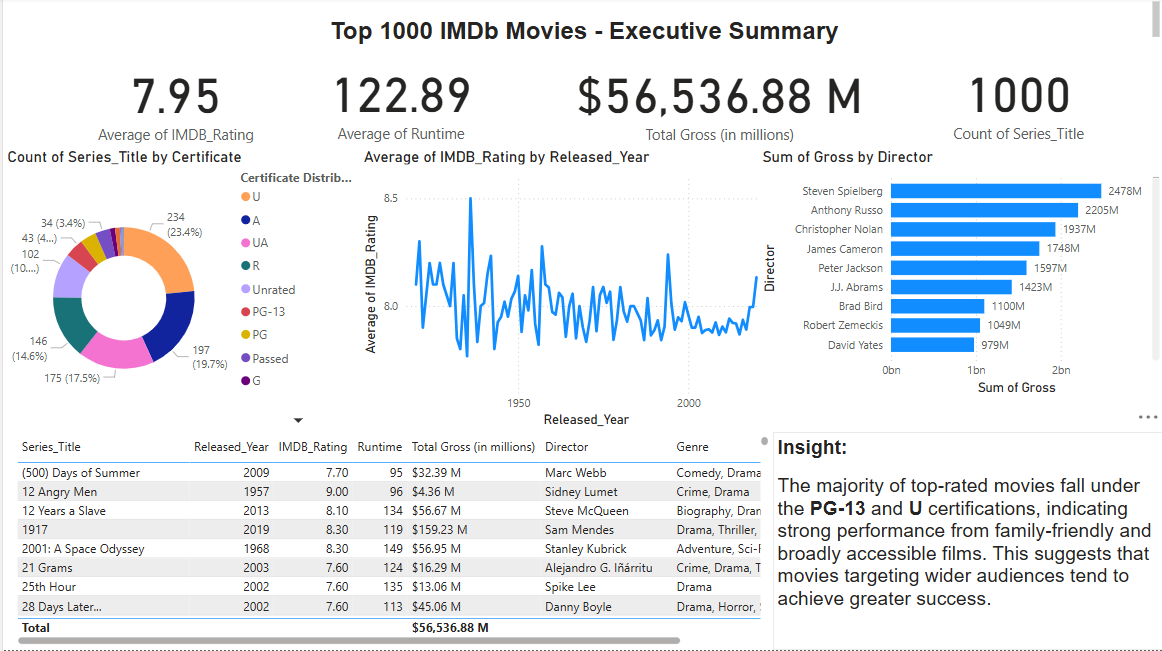

The dashboard page shown, as its layout file describes it:
{"tool":"powerbi","page":{"name":"Page 1","canvas":[1280,720],"ordinal":0},"visuals":[{"type":"textbox","box":[9.6,0,1270.6,60.6],"z":0},{"type":"lineChart","fields":{"Category":["imdb_top_1000_cleaned.Released_Year"],"Y":["Avg(imdb_top_1000_cleaned.IMDB_Rating)"]},"box":[392.8,165.4,456.2,314.2],"z":1},{"type":"clusteredBarChart","fields":{"Category":["imdb_top_1000_cleaned.Director"],"Y":["Sum(imdb_top_1000_cleaned.Gross)"]},"box":[832.4,165.4,447.9,278.4],"z":2},{"type":"tableEx","fields":{"Values":["imdb_top_1000_cleaned.Series_Title","imdb_top_1000_cleaned.Released_Year","imdb_top_1000_cleaned.IMDB_Rating","imdb_top_1000_cleaned.Runtime","imdb_top_1000_cleaned.Total Gross (in millions)","imdb_top_1000_cleaned.Director","imdb_top_1000_cleaned.Genre"]},"box":[9.6,479.6,839.3,239.8],"z":3},{"type":"card","fields":{"Values":["Avg(imdb_top_1000_cleaned.IMDB_Rating)"]},"box":[9.6,60.6,362.4,104.7],"z":4},{"type":"card","fields":{"Values":["Avg(imdb_top_1000_cleaned.Runtime)"]},"box":[282.5,57.9,312.8,107.5],"z":5},{"type":"card","fields":{"Values":["imdb_top_1000_cleaned.Total Gross (in millions)"]},"box":[621.5,60.6,337.6,104.7],"z":6},{"type":"card","fields":{"Values":["CountNonNull(imdb_top_1000_cleaned.Series_Title)"]},"box":[959.2,57.9,321.1,107.5],"z":7},{"type":"donutChart","fields":{"Category":["imdb_top_1000_cleaned.Certificate"],"Y":["CountNonNull(imdb_top_1000_cleaned.Series_Title)"]},"box":[0,165.4,392.8,314.2],"z":8},{"type":"textbox","box":[848.9,479.6,431.4,239.8],"z":9}]}

Visuals, with their boxes in screenshot pixels (x1, y1, x2, y2), scaled from the page's 1280x720 canvas onto the 1162x651 screenshot:
textbox: bbox=[9, 0, 1161, 55]
lineChart - imdb_top_1000_cleaned.Released_Year x Avg(imdb_top_1000_cleaned.IMDB_Rating): bbox=[357, 150, 771, 434]
clusteredBarChart - imdb_top_1000_cleaned.Director x Sum(imdb_top_1000_cleaned.Gross): bbox=[756, 150, 1161, 401]
tableEx - imdb_top_1000_cleaned.Series_Title x imdb_top_1000_cleaned.Released_Year: bbox=[9, 434, 771, 650]
card - Avg(imdb_top_1000_cleaned.IMDB_Rating): bbox=[9, 55, 338, 149]
card - Avg(imdb_top_1000_cleaned.Runtime): bbox=[256, 52, 540, 150]
card - imdb_top_1000_cleaned.Total Gross (in millions): bbox=[564, 55, 871, 149]
card - CountNonNull(imdb_top_1000_cleaned.Series_Title): bbox=[871, 52, 1161, 150]
donutChart - imdb_top_1000_cleaned.Certificate x CountNonNull(imdb_top_1000_cleaned.Series_Title): bbox=[0, 150, 357, 434]
textbox: bbox=[771, 434, 1161, 650]
